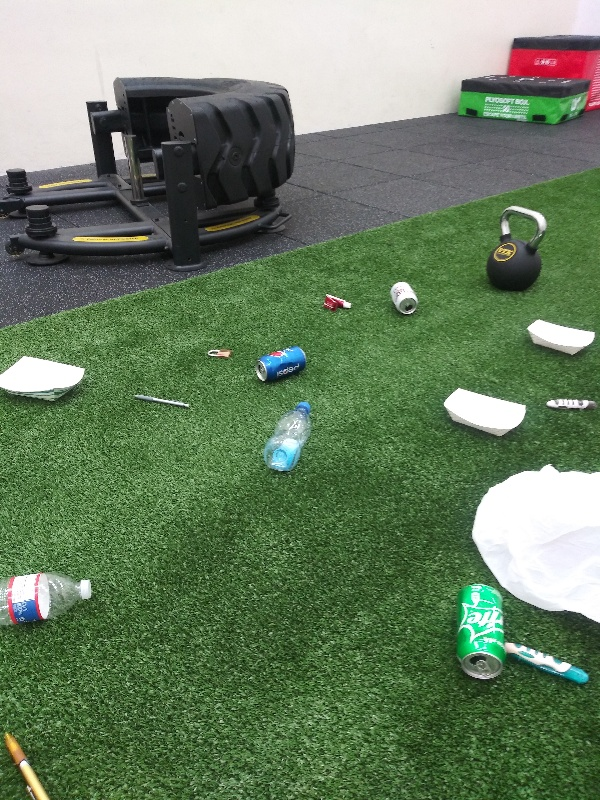bottle: (1, 569, 94, 631), (254, 401, 322, 476)
can: (452, 580, 512, 684), (253, 345, 314, 391), (387, 277, 424, 320)
plate: (438, 387, 529, 443), (1, 350, 89, 407), (524, 317, 596, 362)
